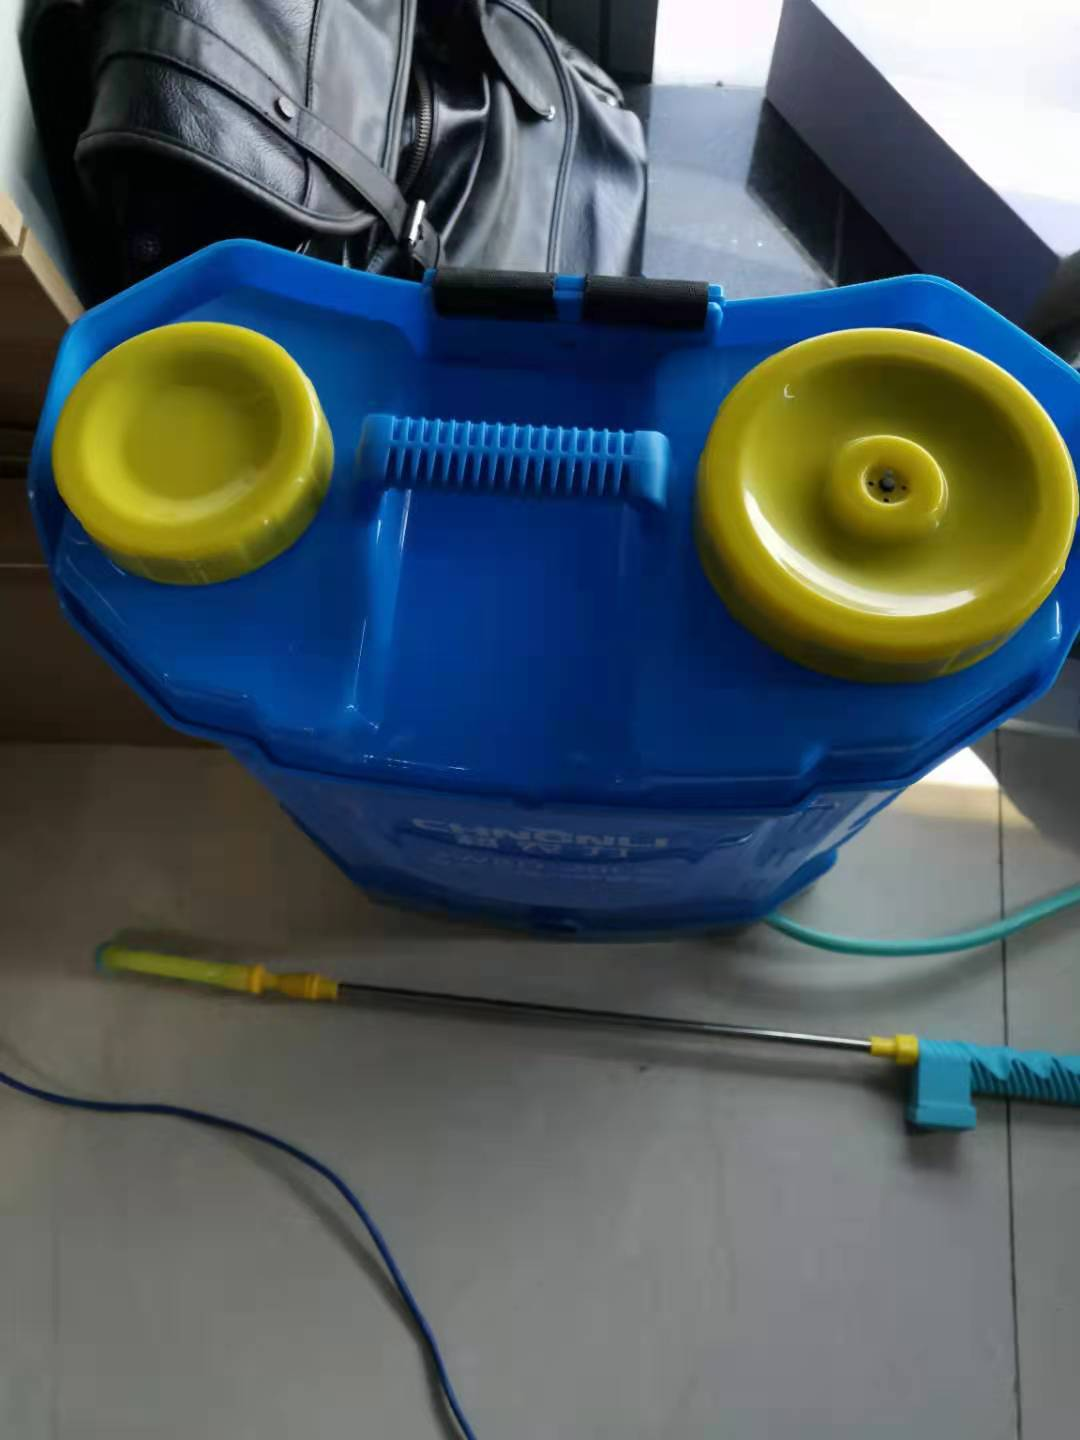berrl: (19, 228, 1071, 973)
